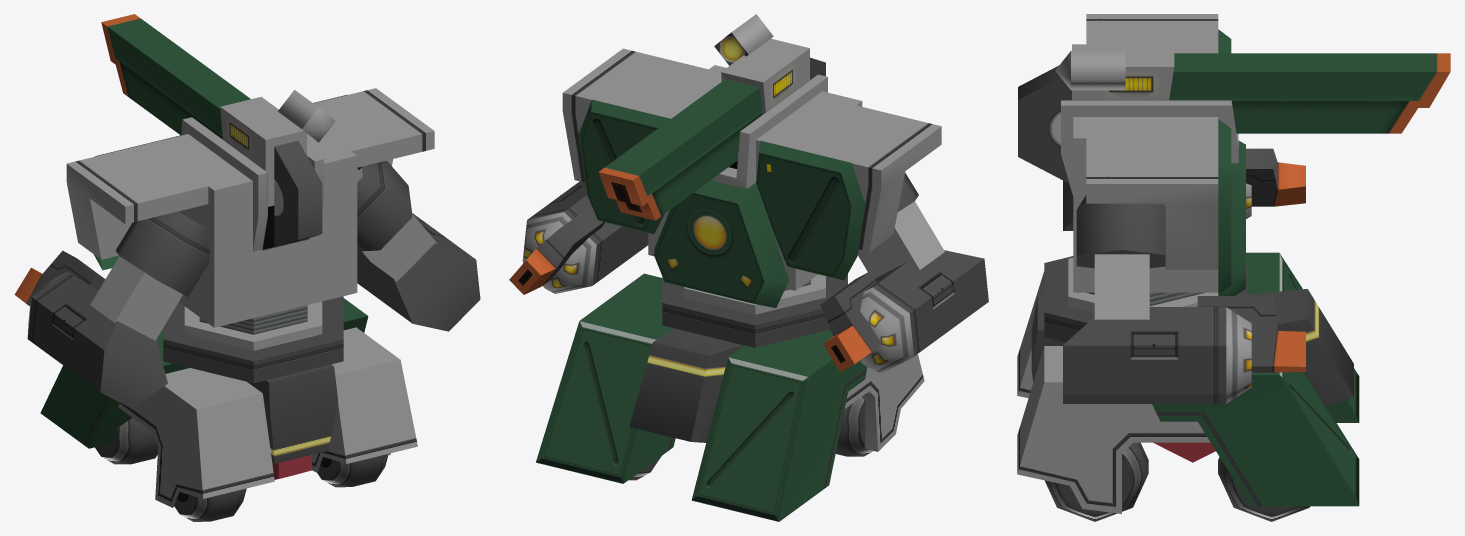
File: robo_ab10_mod.fbx
The picture shows the model from 3 angles, left to right: view 1: azimuth 30°, elevation 25°; view 2: azimuth 150°, elevation 25°; view 3: azimuth 270°, elevation 25°; orthographic projection. The views are drawn at different scales.
Parts seen in each view (by area): view 1: robo_ab10_mod; view 2: robo_ab10_mod; view 3: robo_ab10_mod.
Part boxes in pixels (bbox=[...]): robo_ab10_mod: bbox=[14, 14, 480, 521]; robo_ab10_mod: bbox=[509, 14, 988, 521]; robo_ab10_mod: bbox=[1017, 14, 1450, 521].
Bounding box in the file's own units: 11.35 × 11.24 × 9.95.
